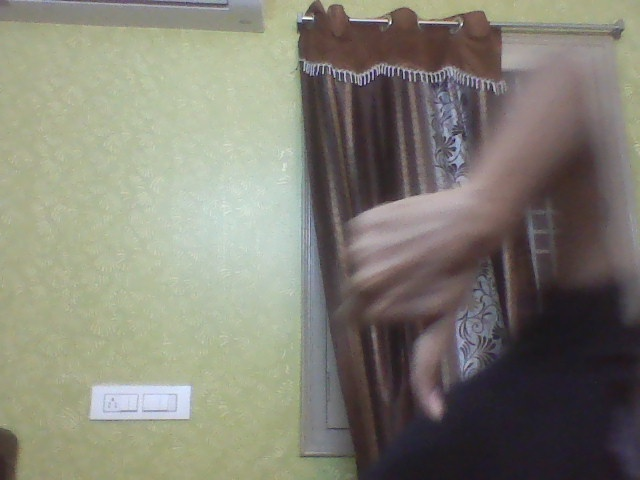thumbsdown: (335, 197, 487, 419)
